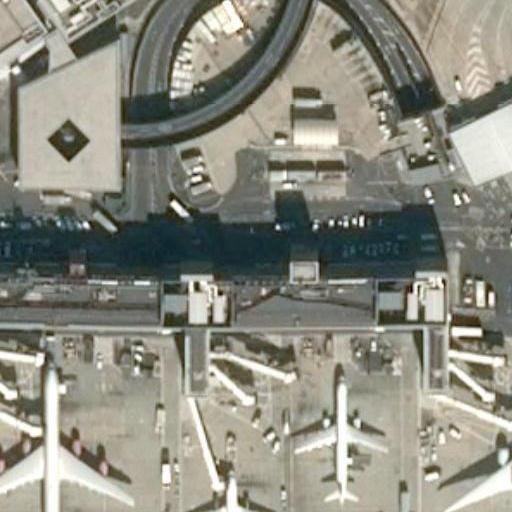Aircraft: (0, 366, 140, 512), (287, 369, 379, 504), (438, 417, 511, 512), (177, 468, 276, 512)
